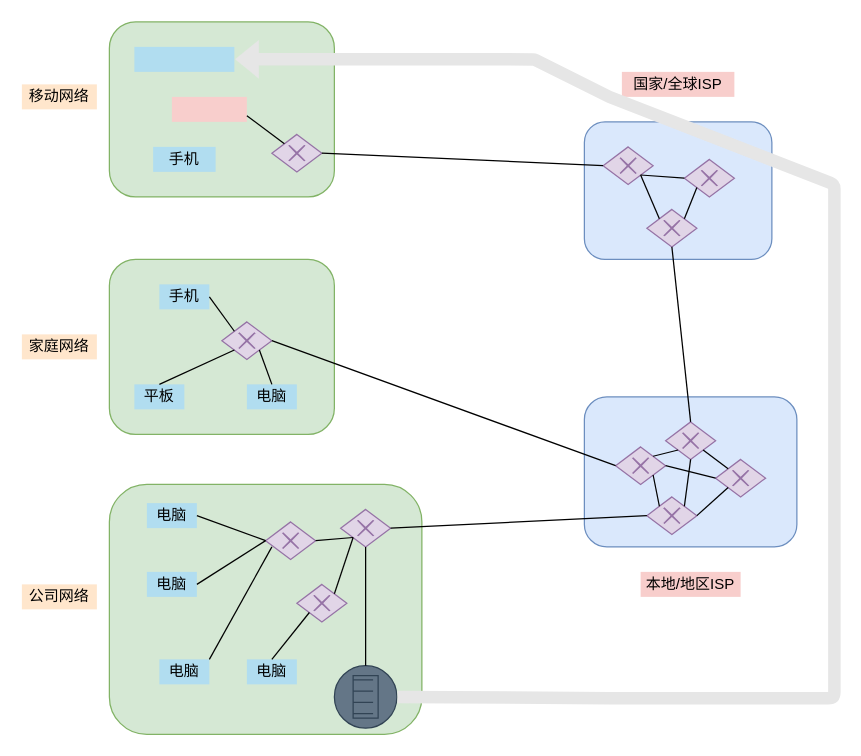
Some shapes in this 861 by 756 pixel diagram are drawn without their labels. Here are the shapes that lost their labels. From the top down, the centre of each, then its label:
At pixel 184 58: "pad--办公".
At pixel 208 108: "信号基站".
